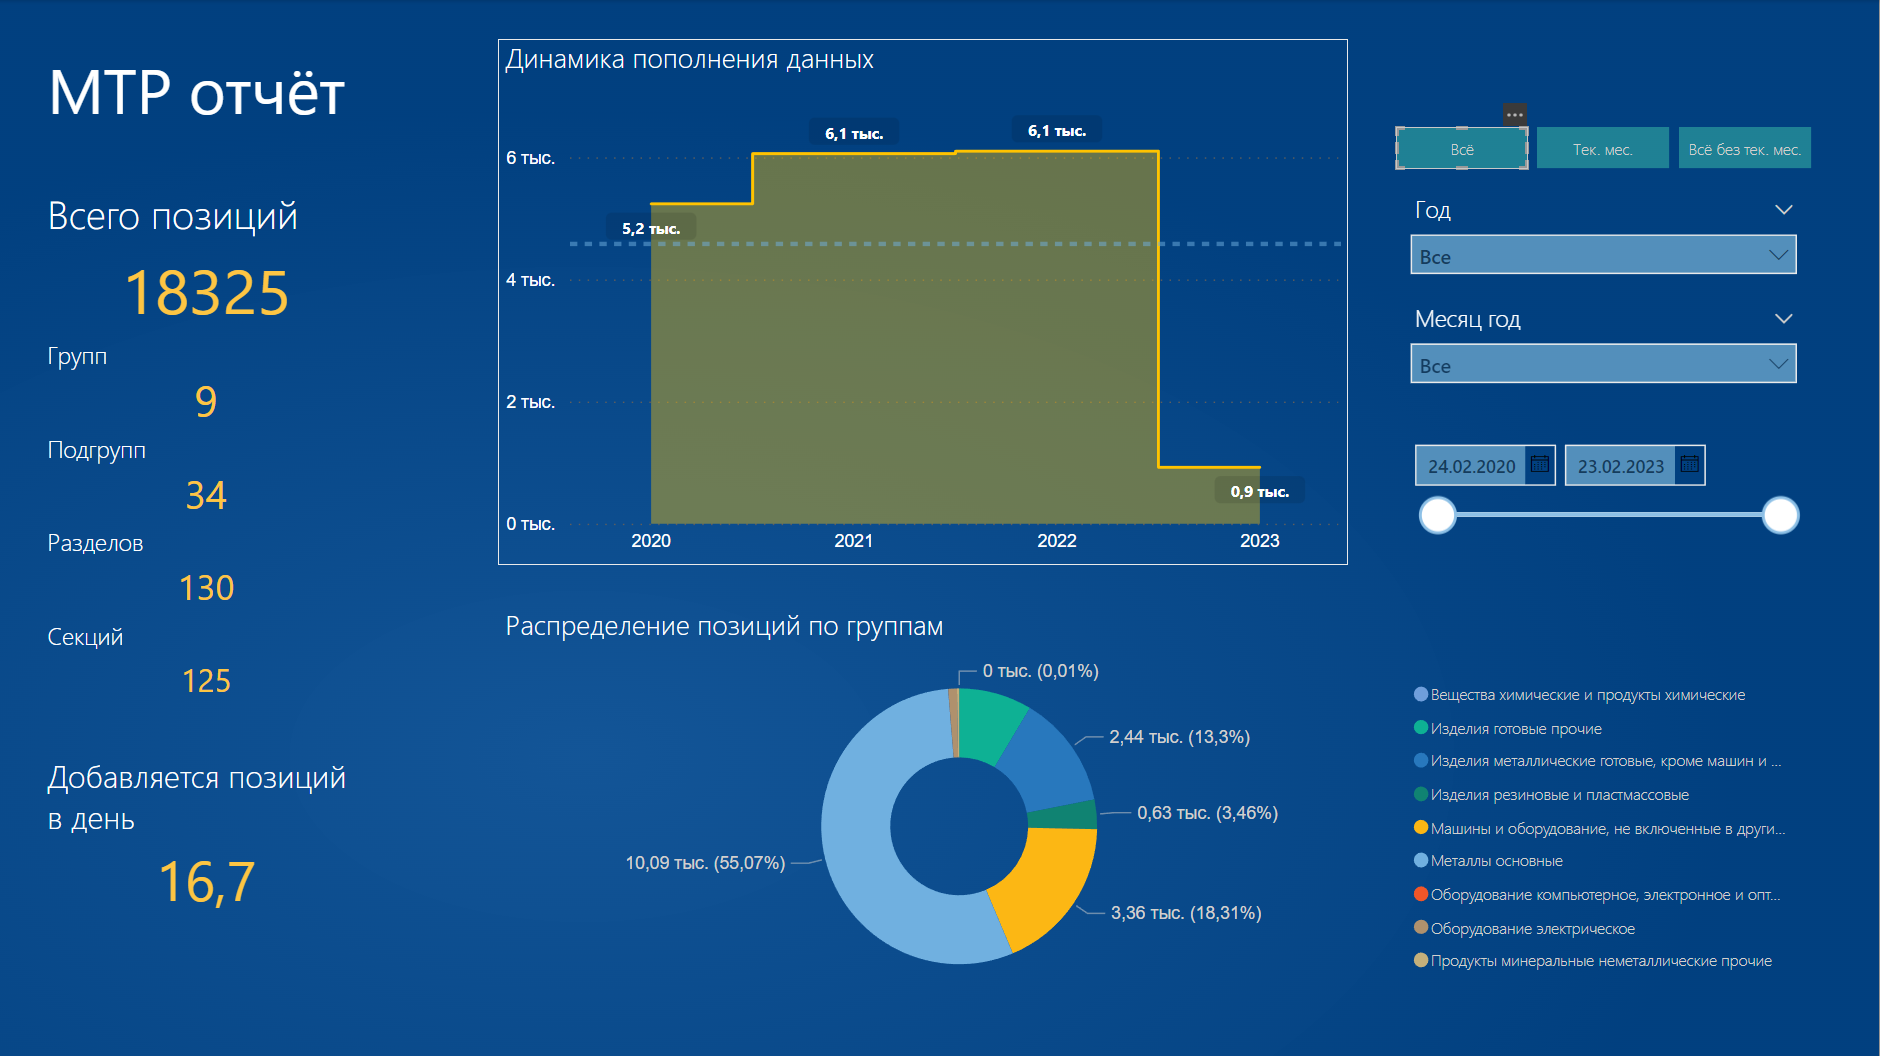

What the dashboard file says about the page in this screenshot:
{"tool":"powerbi","page":{"name":"Отчёт","canvas":[1280,720],"ordinal":0},"visuals":[{"type":"textbox","box":[27.8,26.7,226.1,74.2],"z":0},{"type":"card","title":"Всего позиций","fields":{"Values":["Меры.Всего позиций МТР"]},"box":[27.8,126.4,226.1,104.3],"z":1000},{"type":"card","title":"Групп","fields":{"Values":["Меры.Всего групп"]},"box":[27.8,230.7,226.1,63.8],"z":2000},{"type":"card","title":"Подгрупп","fields":{"Values":["Меры.Всего подгрупп"]},"box":[27.8,294.5,226.1,63.8],"z":3000},{"type":"card","title":"Разделов","fields":{"Values":["Меры.Всего разделов"]},"box":[27.8,358.3,226.1,63.8],"z":4000},{"type":"card","title":"Секций","fields":{"Values":["Меры.Всего секций"]},"box":[27.8,422,226.1,63.8],"z":5000},{"type":"areaChart","title":"Динамика пополнения данных","fields":{"Category":["Календарь.Год","Календарь.Месяц год","Позиции МТР с расшифровкой.DateCreated"],"Y":["CountNonNull(Позиции МТР с расшифровкой.CodeMTR)"]},"box":[339.7,26.6,578.7,358.1],"z":6000},{"type":"card","title":"Добавляется позиций в день","fields":{"Values":["Меры.Средняя скорость пополнения базы"]},"box":[27.8,513.6,226.1,113.6],"z":8000},{"type":"donutChart","title":"Распределение позиций по группам","fields":{"Y":["CountNonNull(Позиции МТР с расшифровкой.CodeMTR)"],"Category":["Позиции МТР с расшифровкой.GroupName","Позиции МТР с расшифровкой.SubGroupName","Позиции МТР с расшифровкой.SectionName","Позиции МТР с расшифровкой.SubSectionName"]},"box":[339.7,412.6,894,275.1],"z":9000},{"type":"slicer","fields":{"Values":["Календарь.Дата"]},"box":[950.9,292.7,283.1,83.5],"z":10000},{"type":"slicer","fields":{"Values":["Календарь.Год"]},"box":[950.9,126.7,283.1,73.9],"z":11000},{"type":"slicer","fields":{"Values":["Календарь.Месяц год"]},"box":[950.9,200.5,283.1,92.1],"z":12000},{"type":"actionButton","box":[950.9,86.7,90,28.2],"z":13000},{"type":"actionButton","box":[1047.3,86.7,89.7,28.2],"z":14000},{"type":"actionButton","box":[1143.6,86.7,89.7,28.2],"z":15000}]}

Visuals, with their boxes in screenshot pixels (x1, y1, x2, y2), scaled from the page's 1280x720 canvas onto the 1880x1056 screenshot:
textbox: [left=41, top=39, right=373, bottom=148]
"Всего позиций" card: [left=41, top=185, right=373, bottom=338]
"Групп" card: [left=41, top=338, right=373, bottom=432]
"Подгрупп" card: [left=41, top=432, right=373, bottom=526]
"Разделов" card: [left=41, top=526, right=373, bottom=619]
"Секций" card: [left=41, top=619, right=373, bottom=713]
"Динамика пополнения данных" areaChart: [left=499, top=39, right=1349, bottom=564]
"Добавляется позиций в день" card: [left=41, top=753, right=373, bottom=920]
"Распределение позиций по группам" donutChart: [left=499, top=605, right=1812, bottom=1009]
slicer - Календарь.Дата: [left=1397, top=429, right=1812, bottom=552]
slicer - Календарь.Год: [left=1397, top=186, right=1812, bottom=294]
slicer - Календарь.Месяц год: [left=1397, top=294, right=1812, bottom=429]
actionButton: [left=1397, top=127, right=1529, bottom=169]
actionButton: [left=1538, top=127, right=1670, bottom=169]
actionButton: [left=1680, top=127, right=1811, bottom=169]
